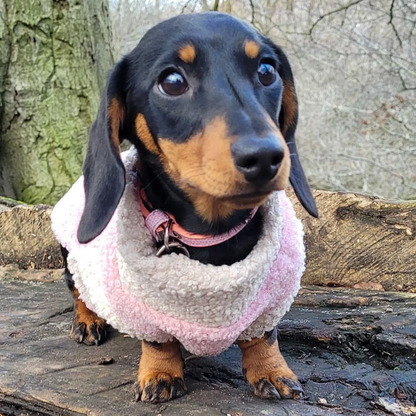dachshund: (42, 5, 360, 364)
